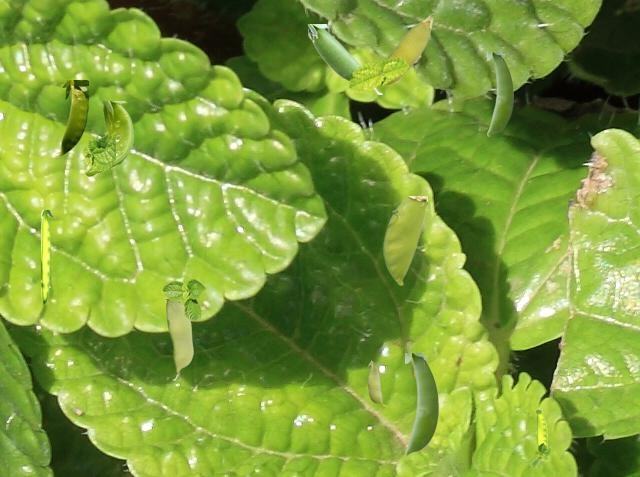pea: (308, 24, 381, 93), (383, 196, 426, 284), (84, 101, 132, 175), (405, 353, 437, 455), (385, 15, 432, 84), (56, 80, 87, 154), (166, 298, 192, 379), (487, 52, 512, 135), (41, 210, 54, 303), (367, 360, 386, 405), (536, 410, 546, 460)
